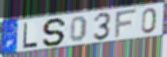0: (69, 15, 89, 44), (141, 8, 159, 35)
3: (93, 12, 112, 42)
F: (114, 8, 139, 40)
L: (22, 22, 39, 50)
S: (41, 18, 68, 48)
